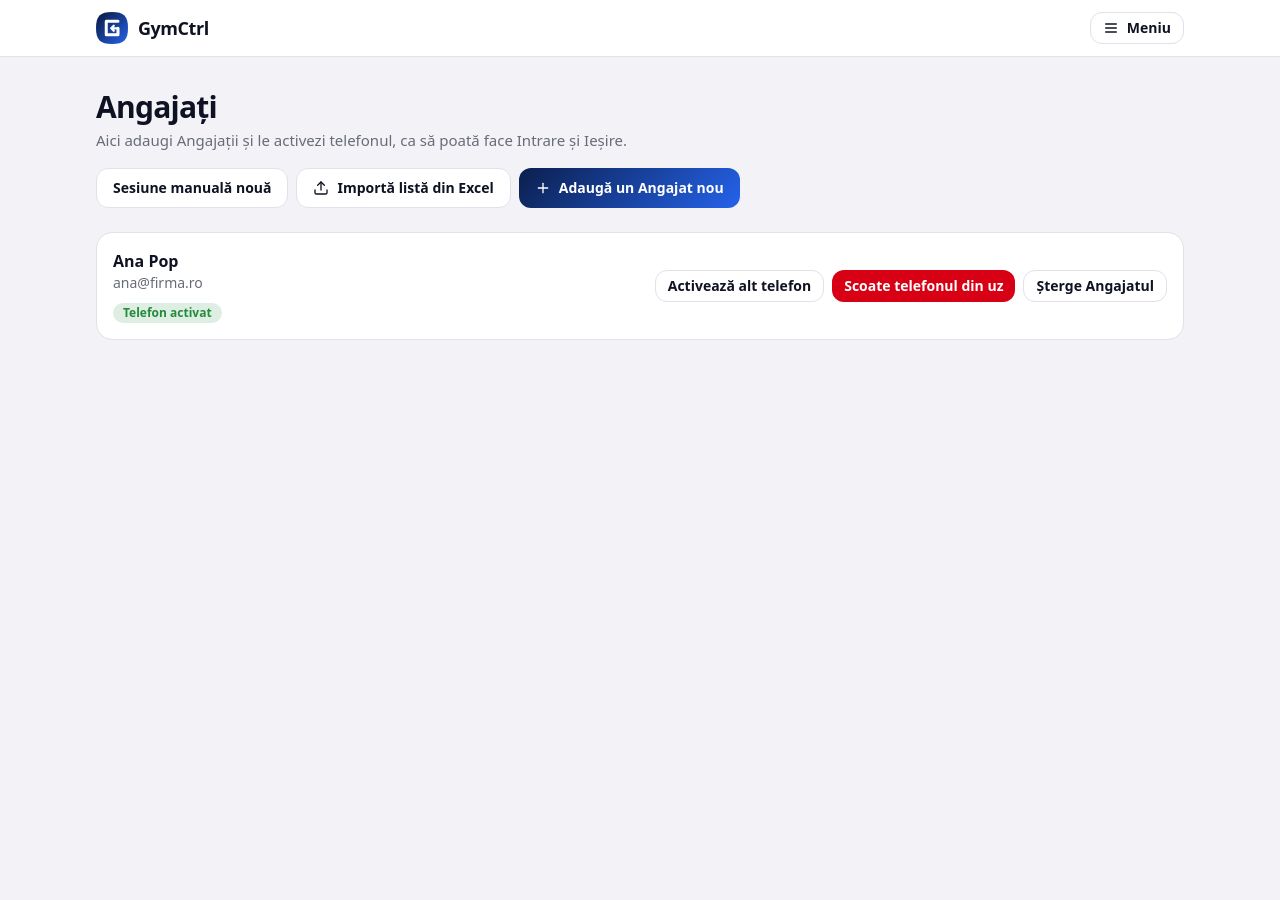
Test: ecranul Angajați › scoate telefonul din uz doar după confirmare; anularea nu face nimic
The image size is (1280, 900).
Click the button "Scoate telefonul din uz": (924,286) [832,270,1016,302]
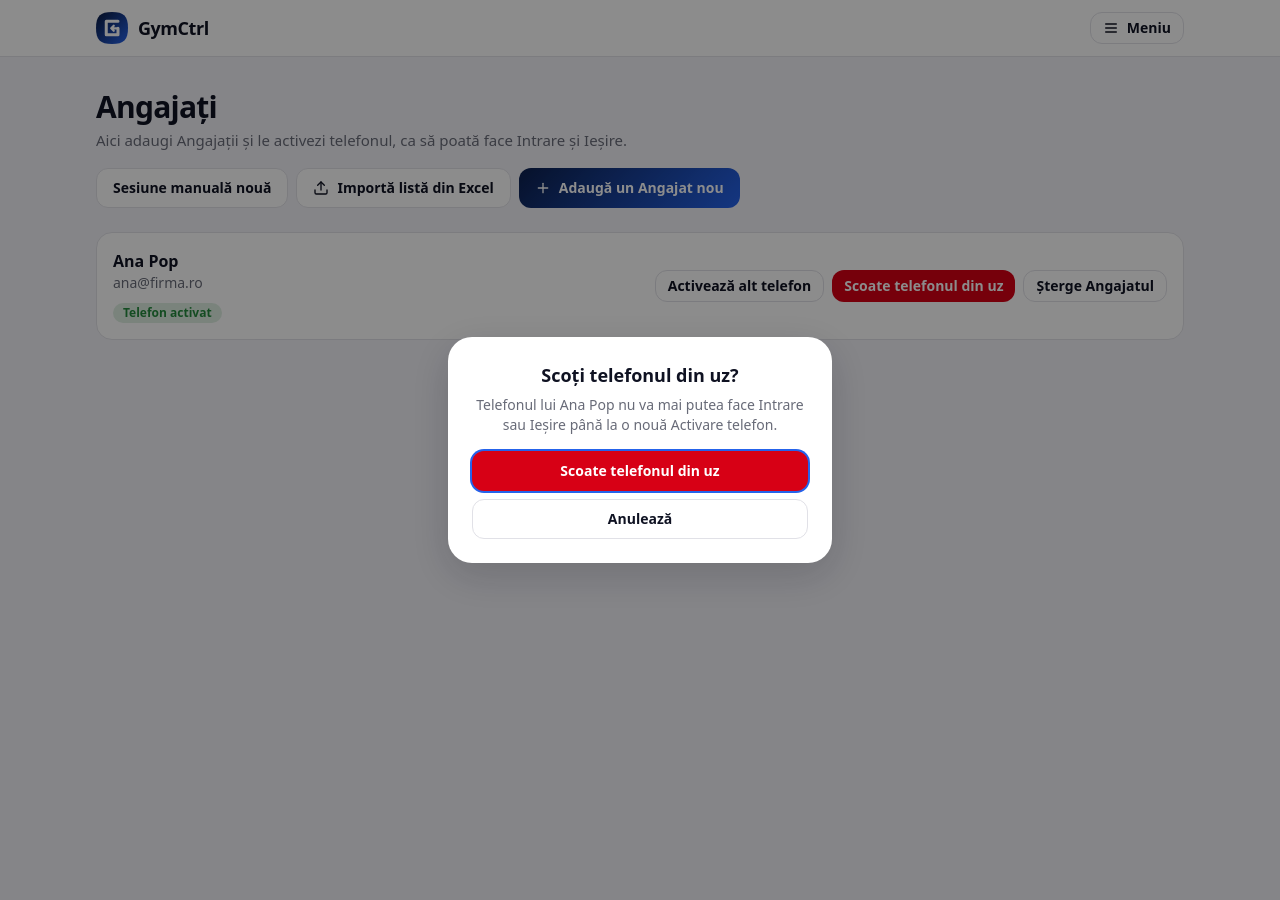
Check: the dialog shows "Ana Pop", box [476,395,804,434]
Click the button "Anulează": (640,519) [472,499,808,539]
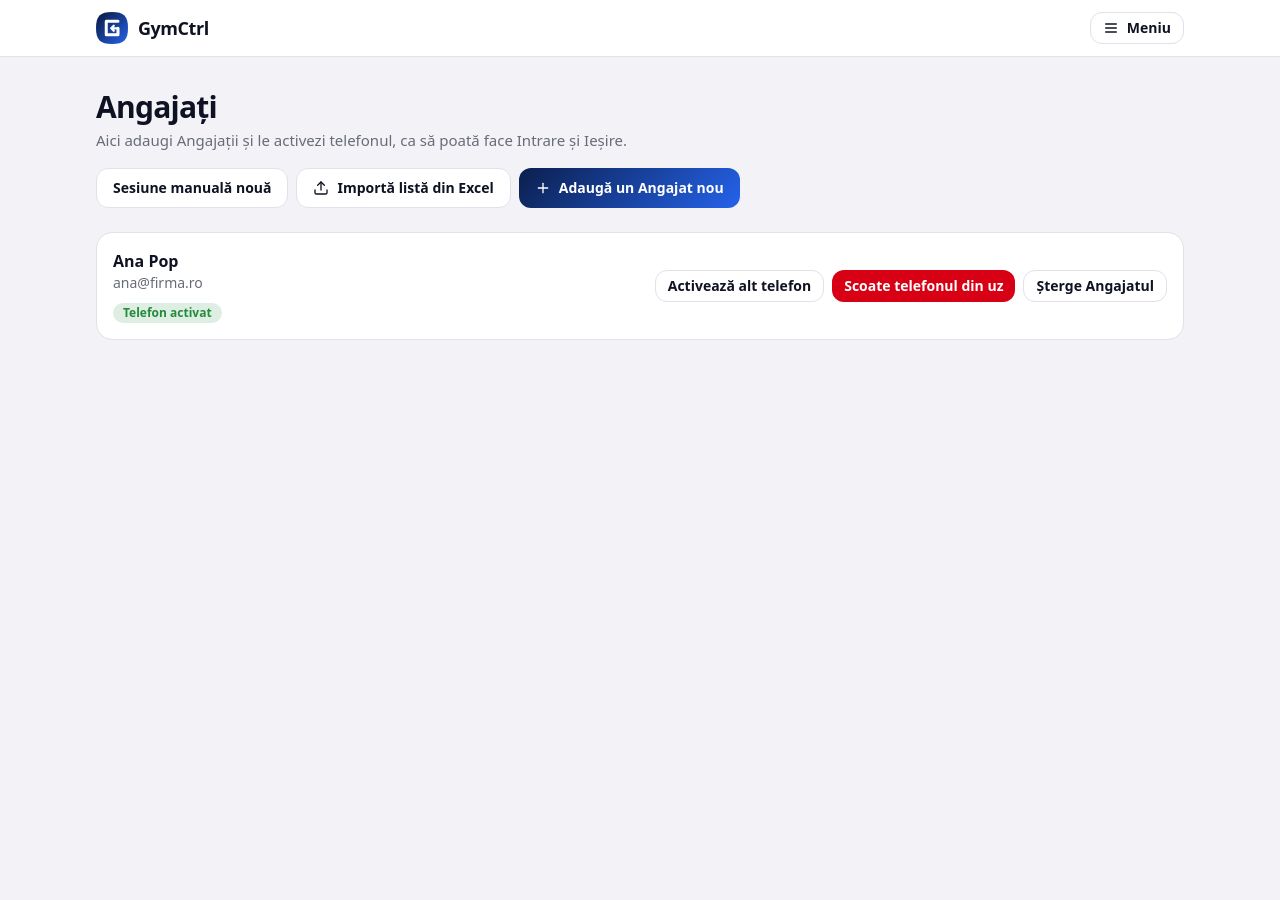
Check: the dialog is gone
Click the button "Scoate telefonul din uz": (924,286) [832,270,1016,302]
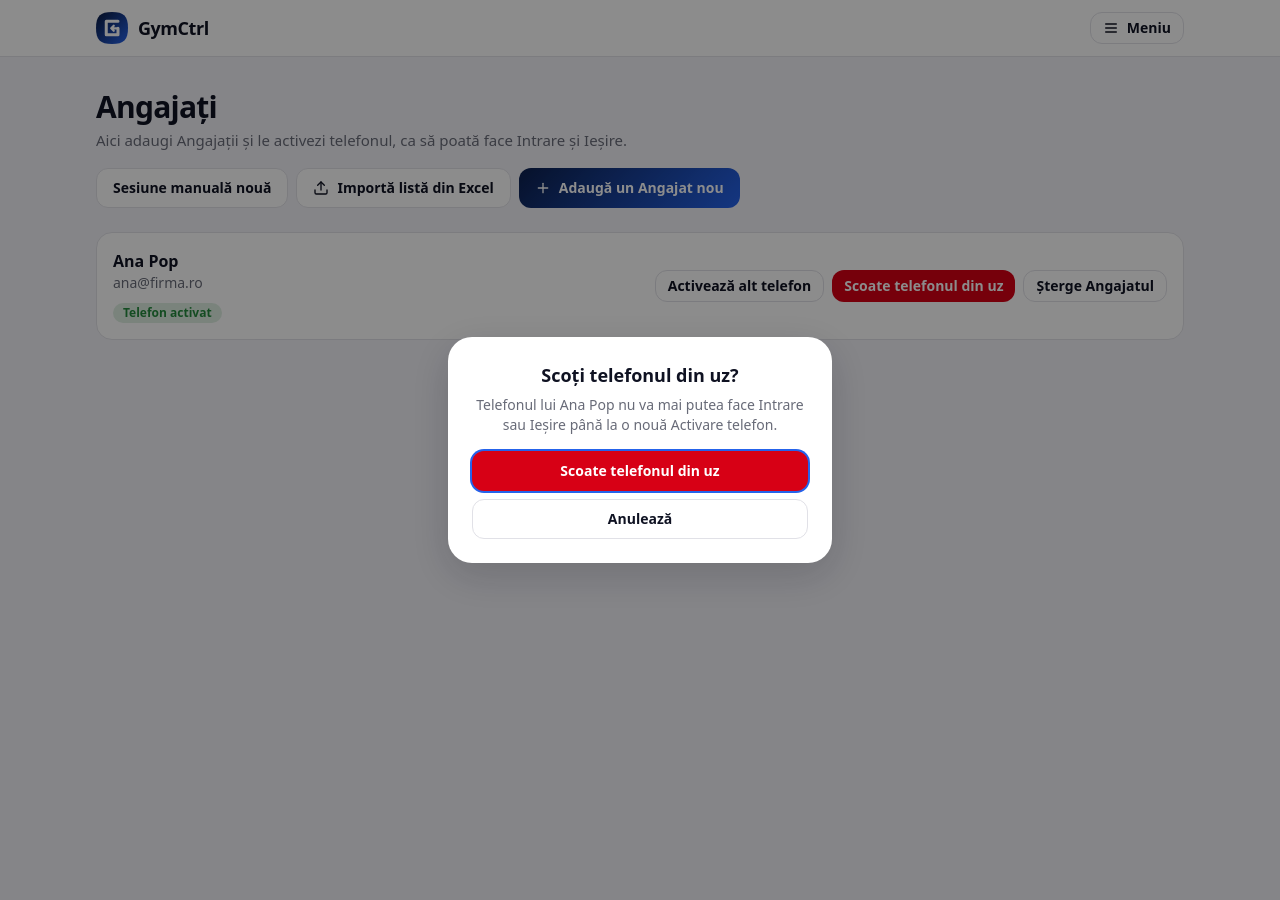
Click the button "Scoate telefonul din uz": (640,471) [472,451,808,491]
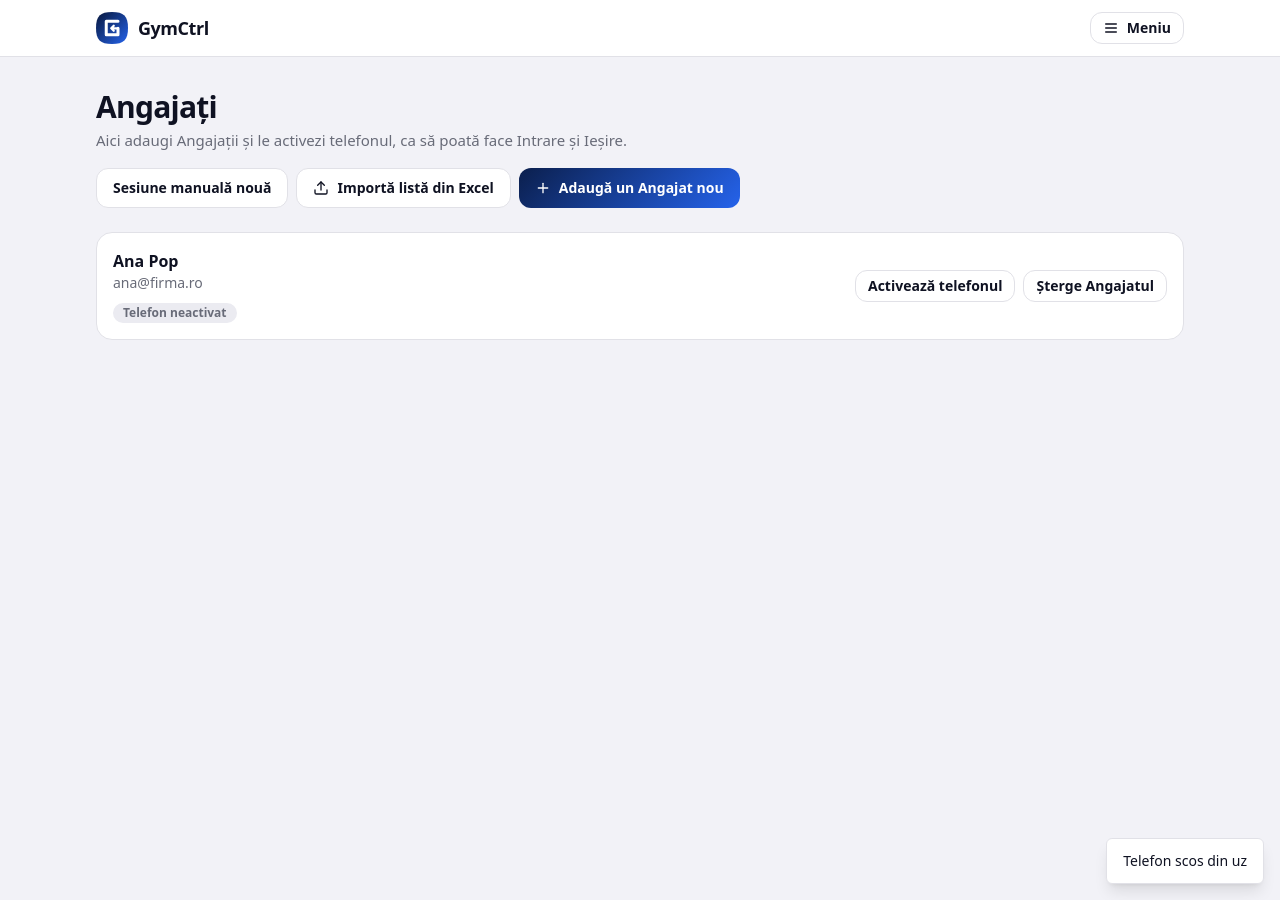
Check: the text "Telefon neactivat" is shown, box [113,302,237,322]
Check: the message reads "Telefon scos din uz", box [1123,851,1247,870]
